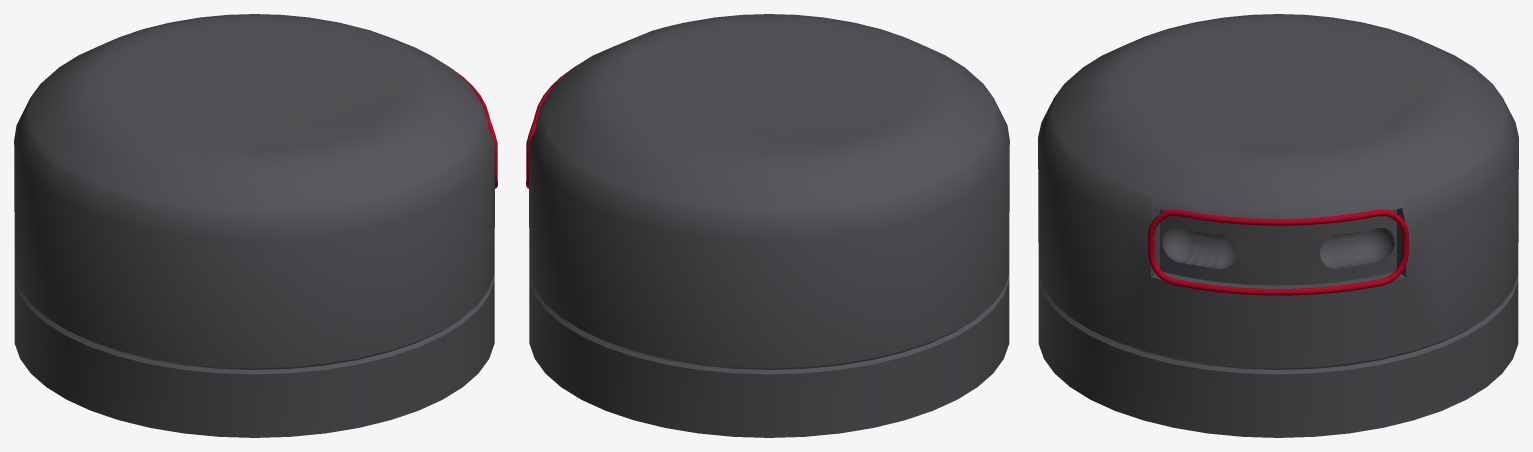
3 renders of one model, left to right at view 1: azimuth 30°, elevation 25°; view 2: azimuth 150°, elevation 25°; view 3: azimuth 270°, elevation 25°, orthographic.
Parts seen in each view (by area): view 1: n_dark; view 2: n_dark, n_band; view 3: n_dark, n_band.
Boxes of the visible parts, x1,y1,x2,y2 form: n_dark: (14, 14, 494, 437); n_dark: (529, 14, 1009, 437); n_band: (526, 68, 572, 188); n_dark: (1038, 14, 1518, 437); n_band: (1148, 209, 1408, 295).
Size of the model in its own units: 0.0724 by 0.0411 by 0.072.
